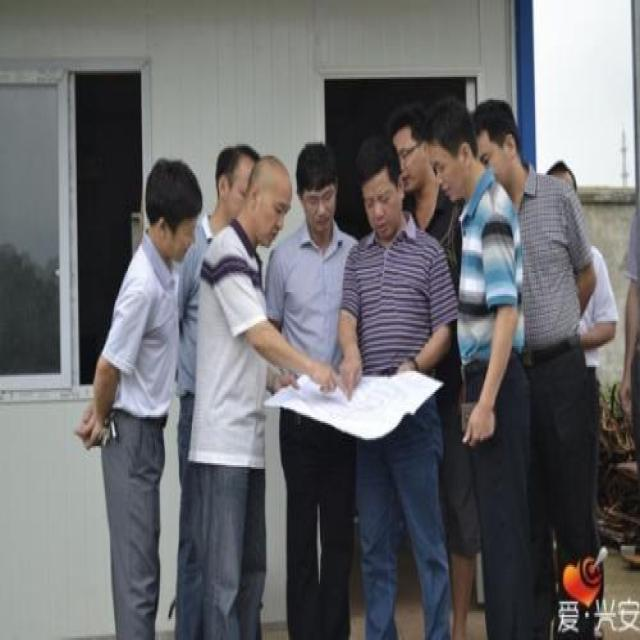no-helmet: (142, 158, 205, 269), (350, 134, 404, 238), (294, 134, 343, 238), (238, 154, 292, 246), (212, 138, 260, 232), (430, 102, 476, 198), (476, 98, 520, 186), (389, 106, 429, 180)
